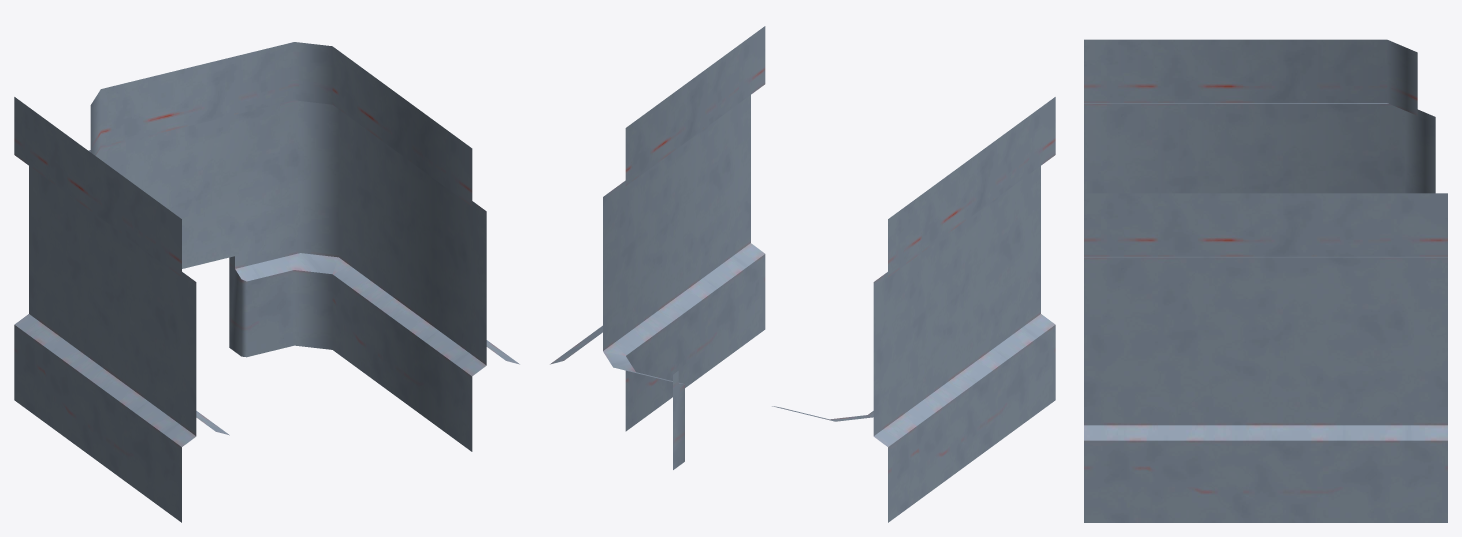
Rendered from Wall_MTNDoor_End_2.glb.
The picture shows the model from 3 angles, left to right: view 1: azimuth 30°, elevation 25°; view 2: azimuth 150°, elevation 25°; view 3: azimuth 270°, elevation 25°; orthographic projection. The views are drawn at different scales.
Parts seen in each view (by area): view 1: Wall_MTNDoor_End_2; view 2: Wall_MTNDoor_End_2; view 3: Wall_MTNDoor_End_2.
Part boxes in pixels (<box>): Wall_MTNDoor_End_2: <box>14,42,519,522</box>; Wall_MTNDoor_End_2: <box>550,26,1055,522</box>; Wall_MTNDoor_End_2: <box>1084,39,1447,522</box>.
Size of the model in its own units: 7 by 6 by 6.
1 material, 1 textured.
